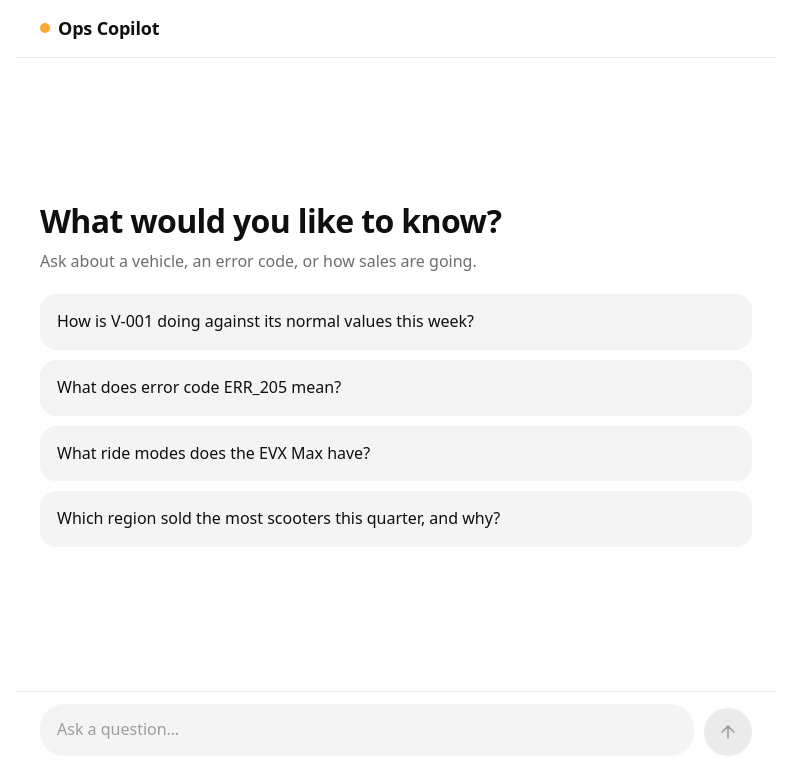
it: asking a question › makes a partial answer look partial and lists what could not be confirmed
Step 1. Type "Why did range drop?" into the text box named "Your question" → (367, 730), box [40,704,694,756]
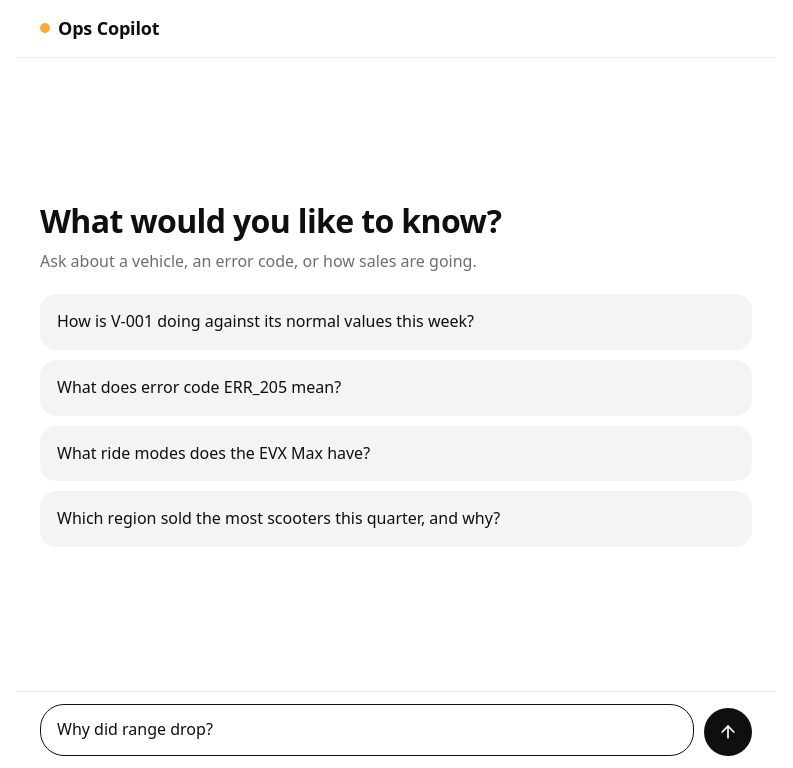
Step 2. Click the button named "Send" → (728, 732), box [704,708,752,756]
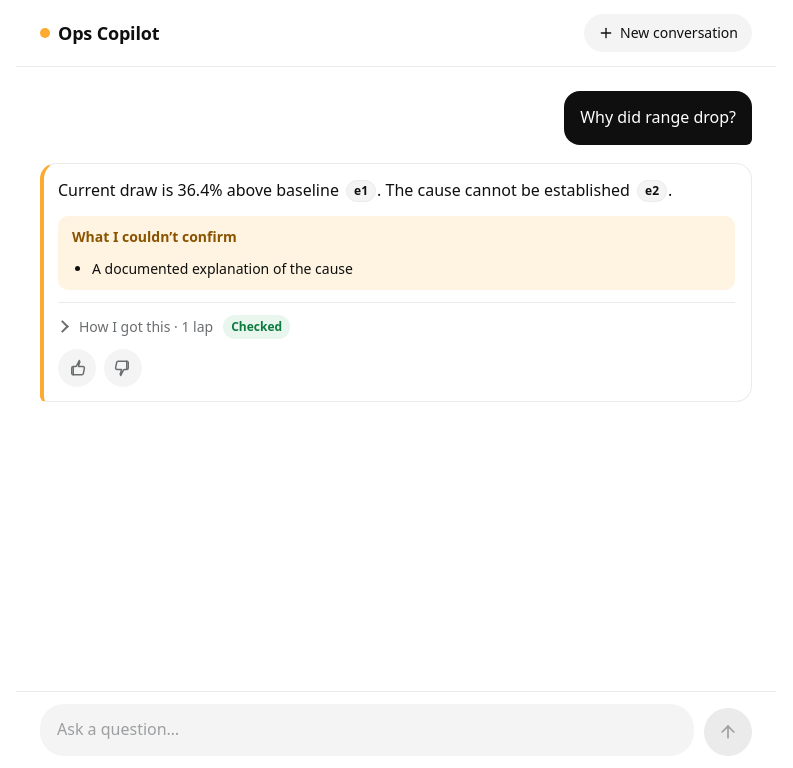
Check: the text "What I couldn’t confirm" is shown, box [72,227,237,246]
Check: the list item "A documented explanation of the cause" is shown, box [92,259,353,278]
Check: the element with class "bubble--partial" is shown, box [40,163,752,402]
